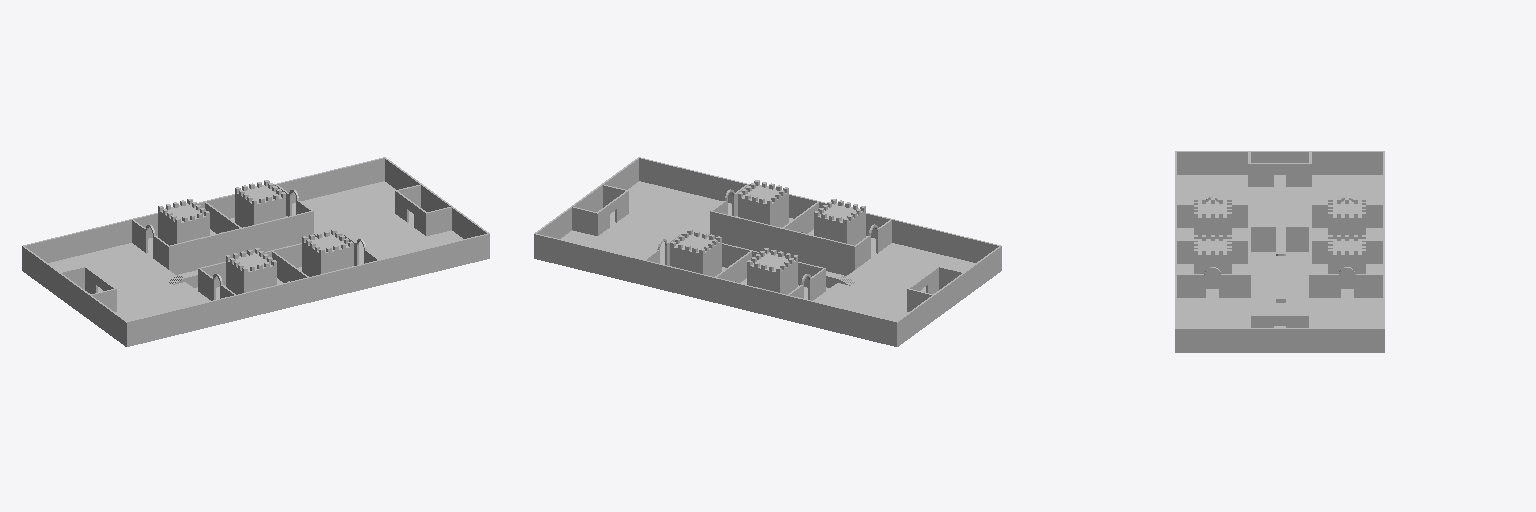
The model's file is Environment.obj.
3 views of the same model, side by side, from view 1: azimuth 30°, elevation 25°; view 2: azimuth 150°, elevation 25°; view 3: azimuth 270°, elevation 25° (orthographic).
Parts seen in each view (by area): view 1: Environment; view 2: Environment; view 3: Environment.
Part boxes in pixels (bbox=[...]): Environment: bbox=[22, 157, 489, 346]; Environment: bbox=[534, 157, 1001, 346]; Environment: bbox=[1175, 151, 1384, 352].
Bounding box in the file's own units: 200 × 33 × 100.